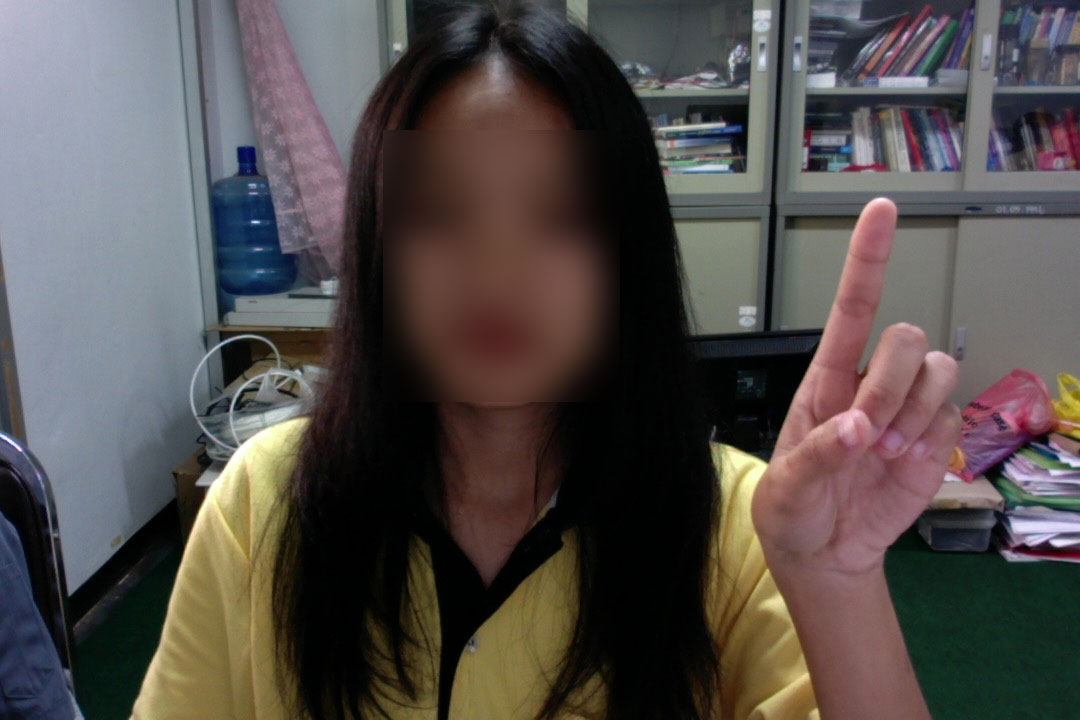dor: (735, 187, 972, 600)
